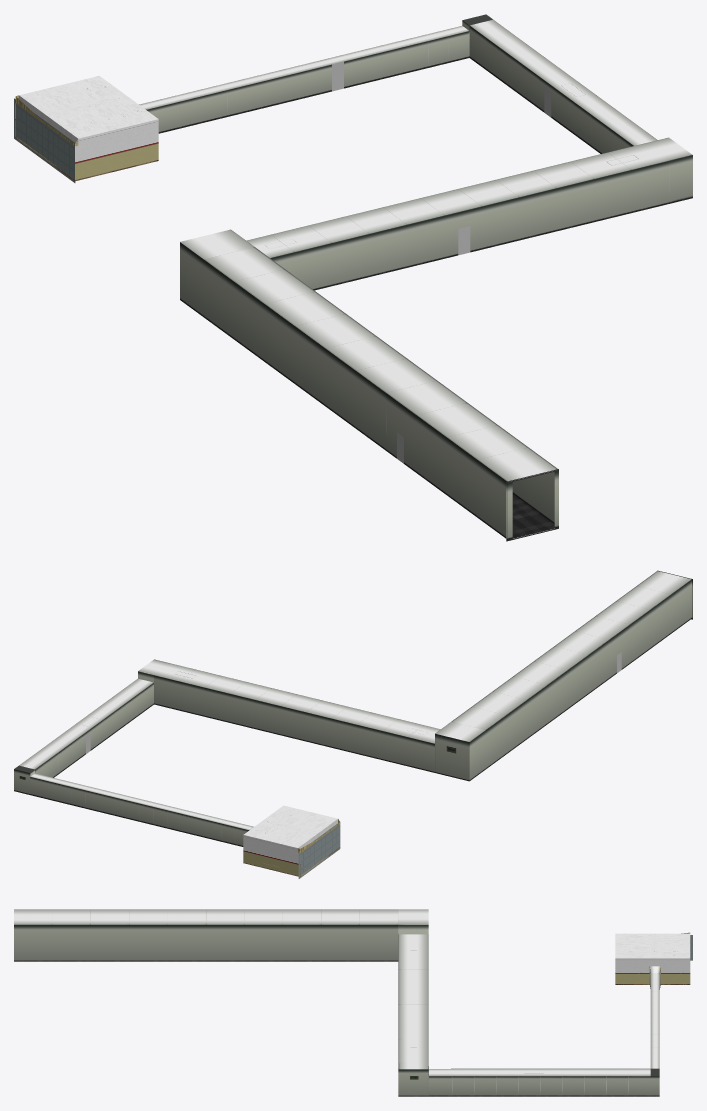
File: Pasillo.FBX
3 renders of one model, top to bottom at view 1: azimuth 30°, elevation 25°; view 2: azimuth 150°, elevation 25°; view 3: azimuth 270°, elevation 25°, orthographic. The views are drawn at different scales.
Parts seen in each view (by area): view 1: Pasillo, MarcoparedAscensor; view 2: Pasillo; view 3: Pasillo.
Part boxes in pixels (x1=…): Pasillo: x1=14, y1=14, x2=692, y2=539; MarcoparedAscensor: x1=506, y1=469, x2=558, y2=541; Pasillo: x1=14, y1=571, x2=691, y2=878; Pasillo: x1=14, y1=909, x2=692, y2=1096.
Size of the model in its own units: 1284 by 152 by 2434.
